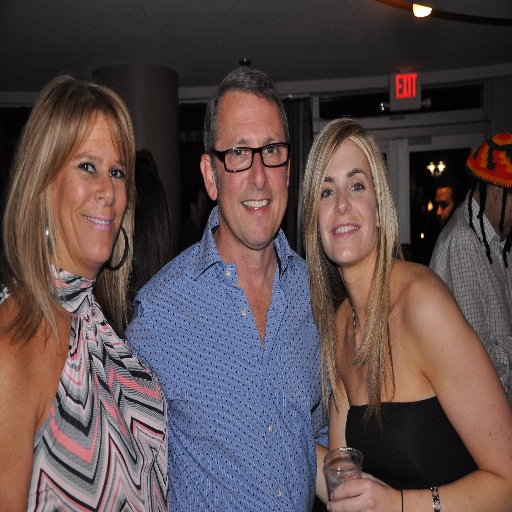hand: (325, 467, 402, 511)
